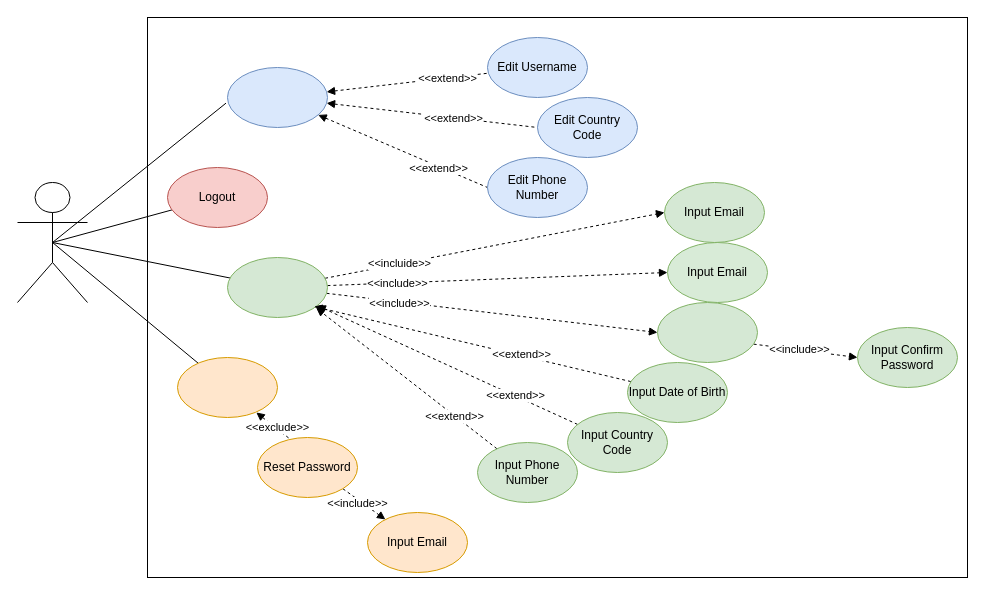
Some shapes in this 985 by 595 pixel diagram are drawn without their labels. The centre of each missing label's shape, as x and y in pixels:
ForgotPassword: pixel 227 387
Input Password: pixel 707 332
Login: pixel 277 97
Register: pixel 277 287
User: pixel 52 242
